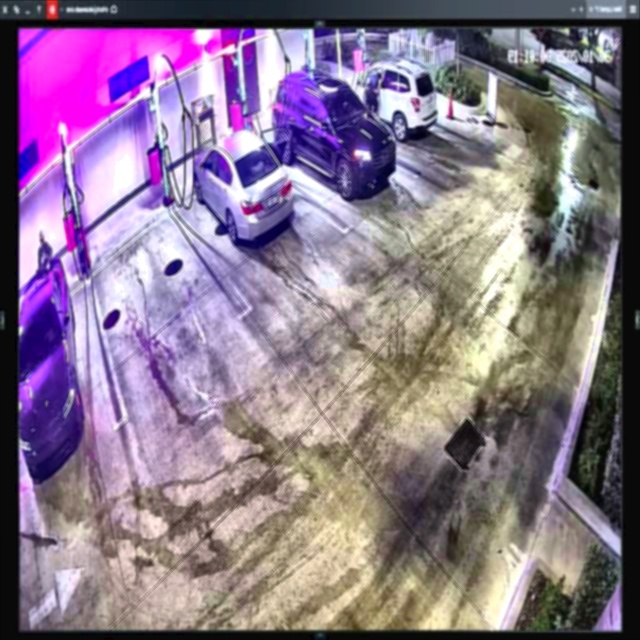Car: (273, 66, 395, 199), (194, 131, 293, 245)
